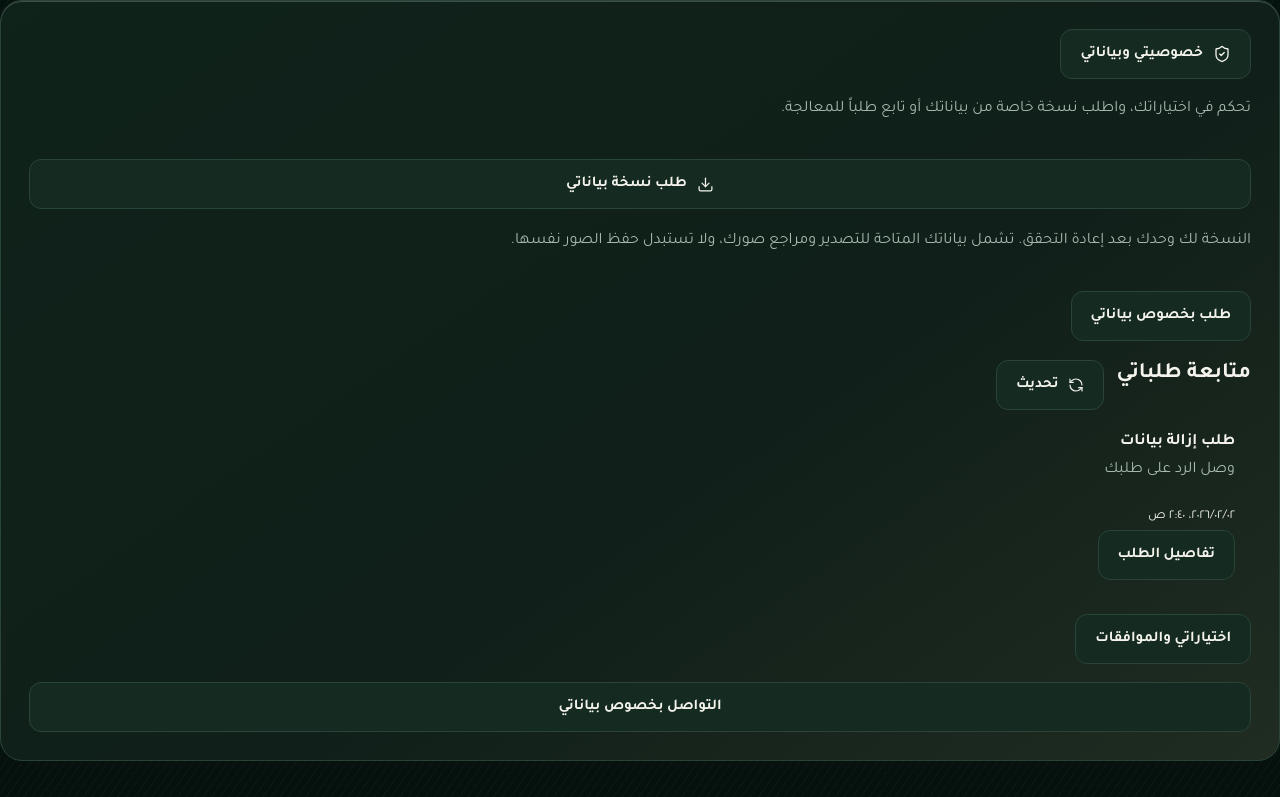
Test: Scoped removal follow-up — local DOM › shows a scoped incomplete result and support reference without claiming all data was erased
The image size is (1280, 797).
Click the button "تفاصيل الطلب": (1166, 555) [1098,530,1235,580]
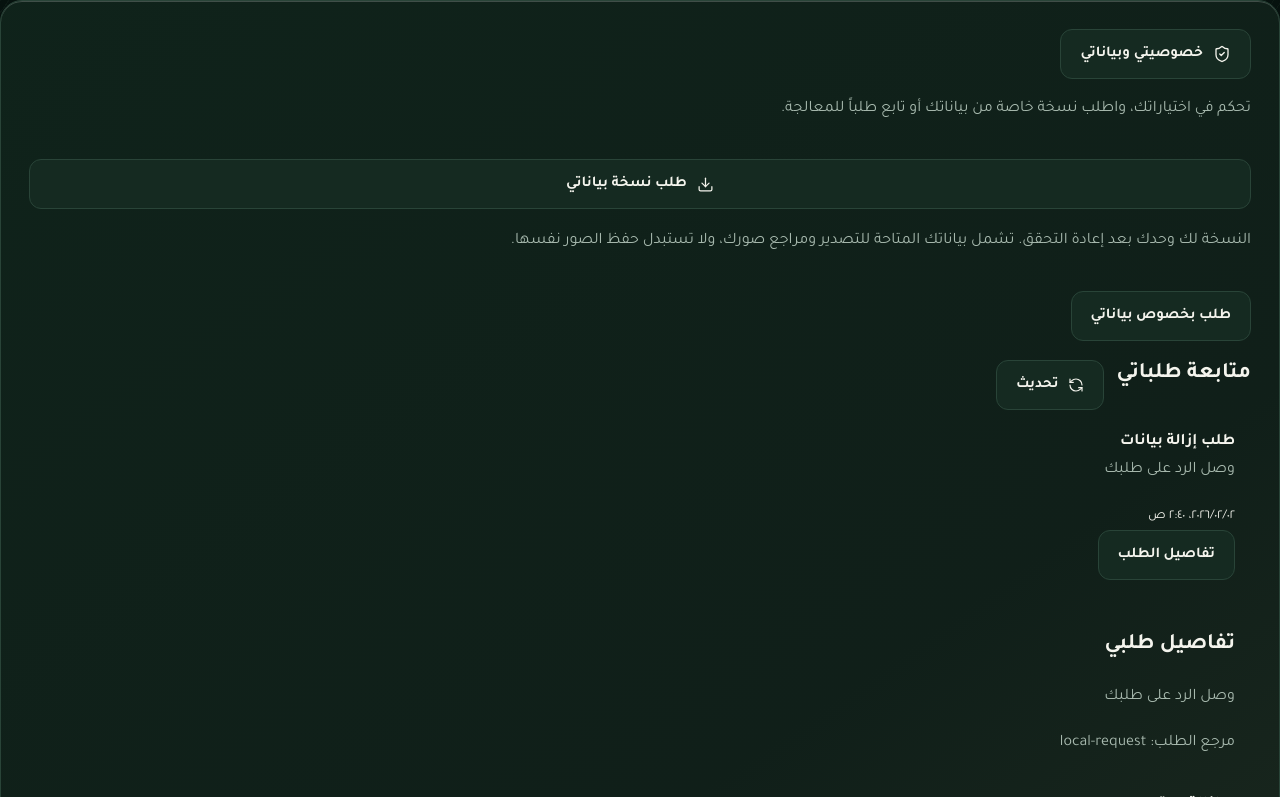
Now the text "مرجع الطلب" is shown, box [1154,735,1235,751]
